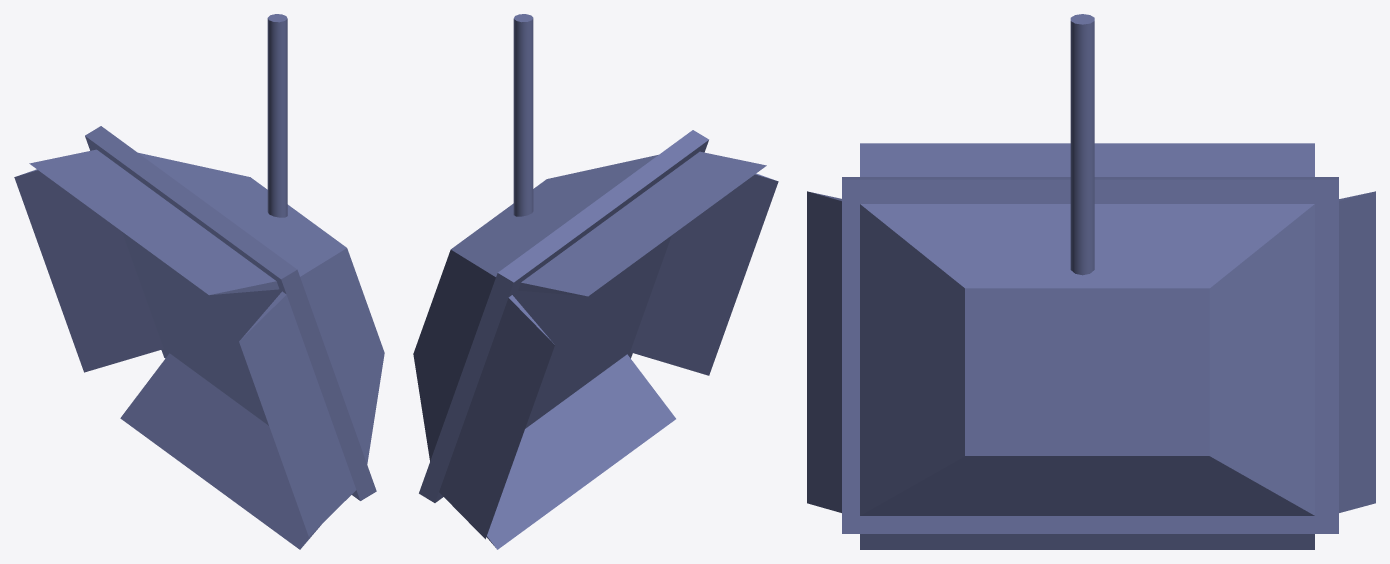
The model's file is StageLight.fbx.
The picture shows the model from 3 angles, left to right: view 1: azimuth 30°, elevation 25°; view 2: azimuth 150°, elevation 25°; view 3: azimuth 270°, elevation 25°; orthographic projection. The views are drawn at different scales.
Visible parts, largest first — view 1: StageLight1; view 2: StageLight1; view 3: StageLight1.
Boxes of the visible parts, <box> form: StageLight1: <box>14,14,384,549</box>; StageLight1: <box>413,14,778,549</box>; StageLight1: <box>807,14,1375,549</box>.
Size of the model in its own units: 126 by 250 by 226.
